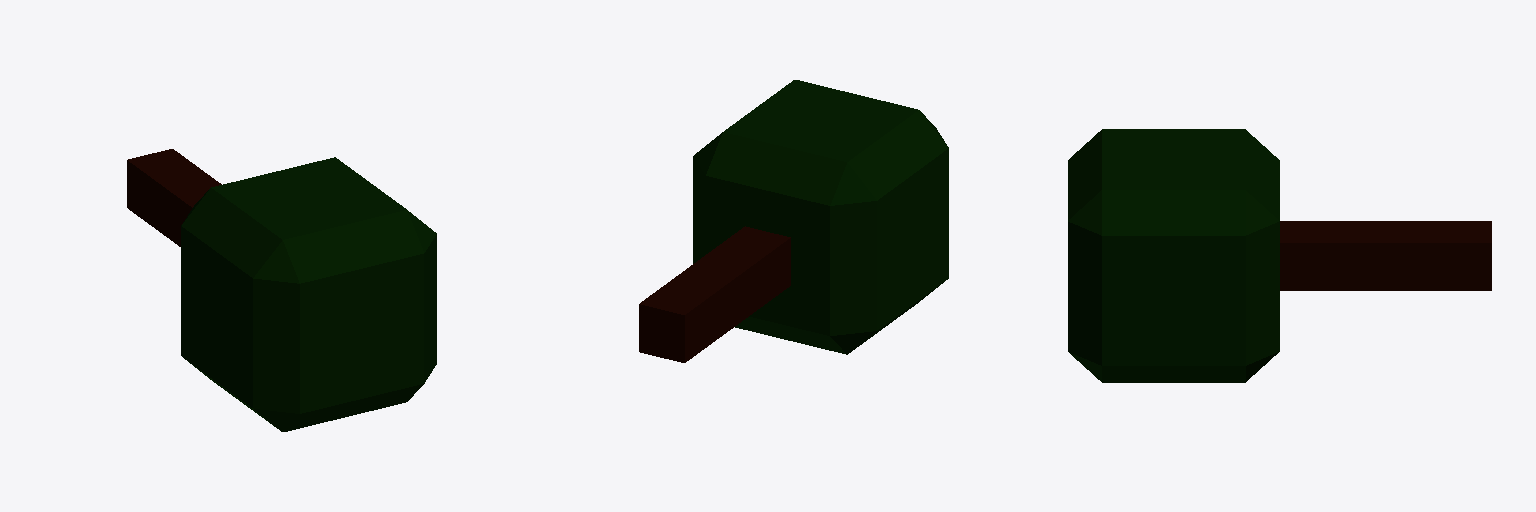
File: apple_tree_100.obj
The picture shows the model from 3 angles: view 1: azimuth 30°, elevation 25°; view 2: azimuth 150°, elevation 25°; view 3: azimuth 270°, elevation 25°; orthographic projection.
Visible parts, largest first — view 1: Cube; view 2: Cube; view 3: Cube.
Part boxes in pixels (bbox=[...]): Cube: bbox=[127, 149, 436, 431]; Cube: bbox=[639, 80, 948, 362]; Cube: bbox=[1068, 129, 1491, 382].
Bounding box in the file's own units: 4 × 4 × 8.